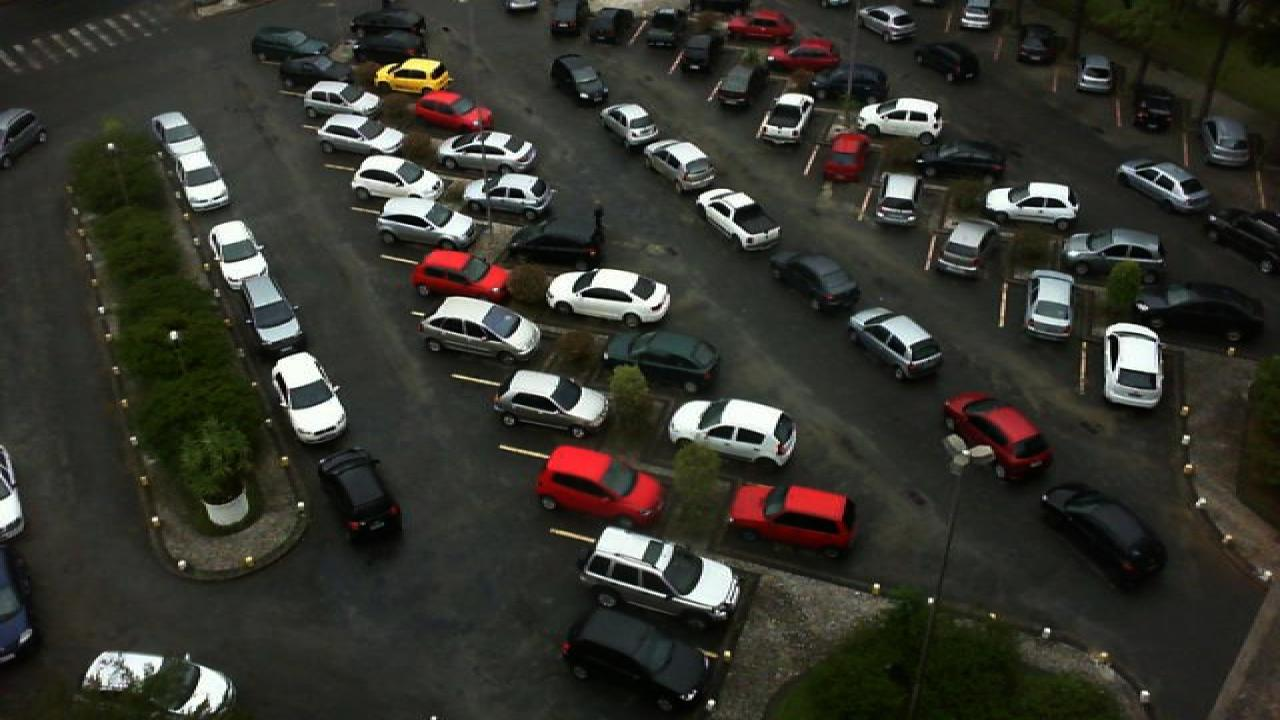Car: (558, 607, 716, 710), (580, 526, 746, 624), (1038, 480, 1174, 592), (534, 444, 666, 532), (80, 650, 242, 719), (940, 390, 1056, 481), (726, 483, 858, 560), (666, 398, 800, 472), (312, 448, 406, 543), (490, 369, 612, 440), (418, 296, 544, 364), (1130, 278, 1266, 340), (546, 268, 676, 330), (846, 306, 946, 381), (602, 330, 722, 392), (272, 350, 350, 444), (410, 248, 518, 306), (766, 248, 862, 312), (376, 196, 480, 252), (1112, 157, 1214, 213), (506, 211, 604, 269), (1100, 322, 1166, 408), (1060, 226, 1168, 278), (696, 188, 784, 251), (234, 282, 308, 356), (456, 171, 558, 219), (350, 154, 448, 203), (1204, 206, 1280, 269), (436, 130, 540, 176), (208, 218, 272, 289), (984, 181, 1082, 226), (170, 145, 232, 214), (316, 112, 408, 158), (640, 138, 718, 192), (858, 96, 946, 142), (408, 89, 496, 134), (1024, 269, 1080, 339), (912, 140, 1010, 180), (934, 219, 996, 279), (754, 92, 820, 145), (300, 80, 384, 120), (548, 53, 610, 106), (372, 57, 454, 96), (150, 110, 208, 164), (808, 62, 888, 101), (0, 108, 50, 170), (912, 40, 982, 84), (250, 26, 330, 64), (278, 53, 352, 93), (350, 32, 432, 68), (598, 102, 662, 148), (820, 132, 874, 184), (1204, 114, 1256, 168), (874, 174, 922, 226), (1130, 83, 1180, 132), (348, 7, 428, 37), (858, 4, 918, 42), (728, 9, 798, 41), (778, 39, 842, 72), (712, 64, 758, 107), (672, 34, 718, 77), (1018, 22, 1060, 66), (586, 8, 632, 46), (1074, 53, 1116, 94), (638, 6, 682, 44), (546, 0, 588, 38), (954, 0, 998, 32)
